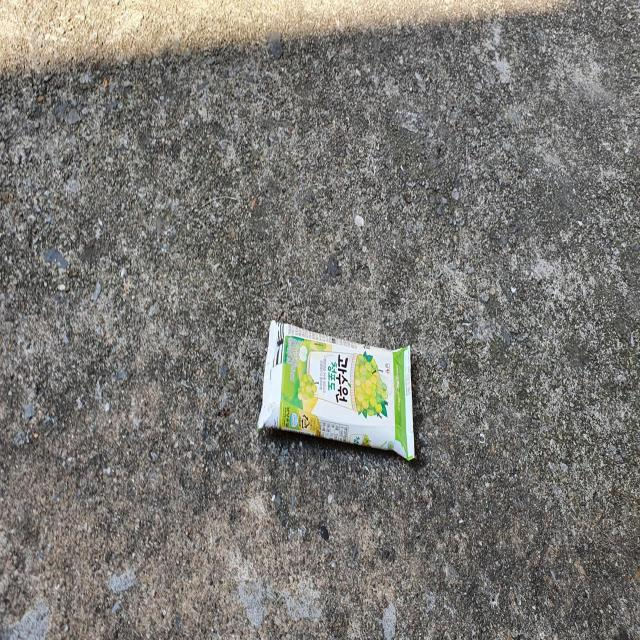paperpack: (257, 320, 415, 460)
